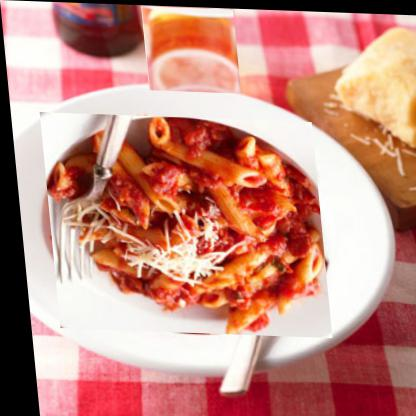non_milk_based_beverage: (141, 4, 241, 93)
pasta: (36, 111, 327, 337)
